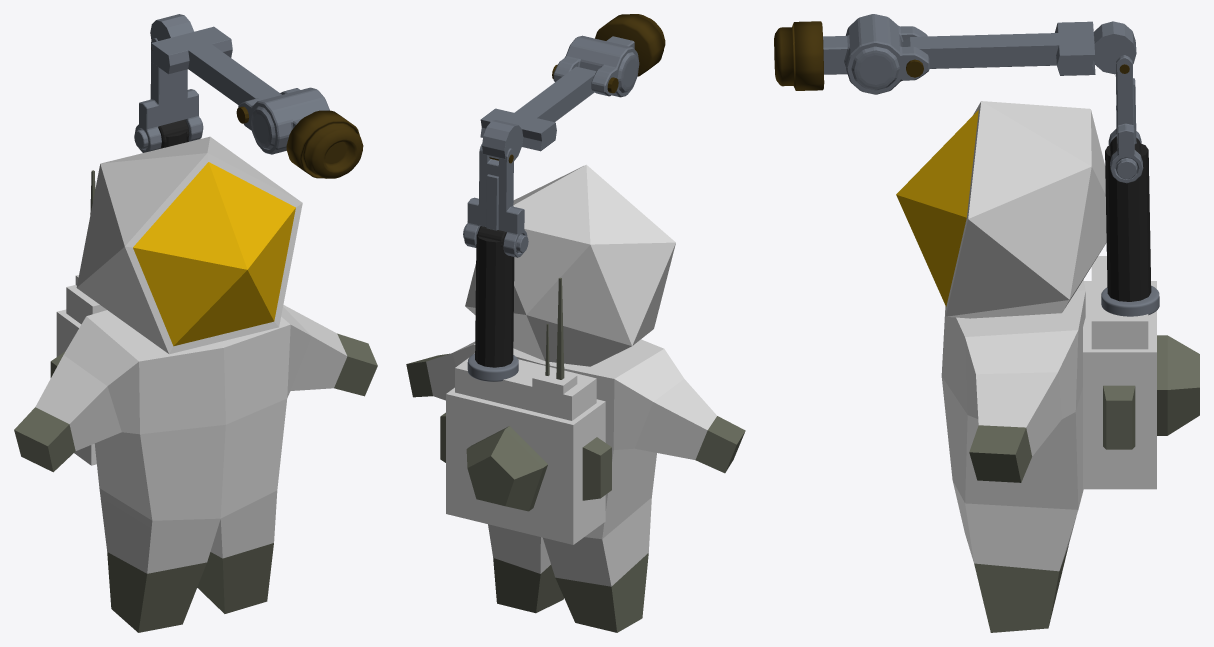
File: Astronauta con brazo.fbx
3 renders of one model, left to right at view 1: azimuth 30°, elevation 25°; view 2: azimuth 150°, elevation 25°; view 3: azimuth 270°, elevation 25°, orthographic. The views are drawn at different scales.
Parts seen in each view (by area): view 1: Player, Cylinder.018, Cylinder.022, Cylinder.019, Cylinder.021; view 2: Player, Cylinder.018, Cylinder.005, Cylinder.019, Cylinder.021, Cylinder.022, Cylinder.020; view 3: Player, Cylinder.018, Cylinder.005, Cylinder.021, Cylinder.022, Cylinder.019, Cylinder.020.
Part boxes in pixels (x1=…): Player: x1=14, y1=136, x2=377, y2=632; Cylinder.018: x1=150, y1=14, x2=281, y2=105; Cylinder.022: x1=286, y1=110, x2=363, y2=178; Cylinder.019: x1=134, y1=38, x2=203, y2=152; Cylinder.021: x1=238, y1=87, x2=329, y2=154; Player: x1=406, y1=164, x2=745, y2=632; Cylinder.018: x1=480, y1=66, x2=596, y2=160; Cylinder.005: x1=475, y1=234, x2=514, y2=367; Cylinder.019: x1=463, y1=144, x2=528, y2=257; Cylinder.021: x1=553, y1=35, x2=639, y2=97; Cylinder.022: x1=595, y1=14, x2=665, y2=76; Cylinder.020: x1=467, y1=354, x2=518, y2=381; Player: x1=896, y1=101, x2=1199, y2=632; Cylinder.018: x1=902, y1=21, x2=1136, y2=75; Cylinder.005: x1=1105, y1=143, x2=1151, y2=301; Cylinder.021: x1=823, y1=14, x2=929, y2=94; Cylinder.022: x1=774, y1=21, x2=824, y2=90; Cylinder.019: x1=1108, y1=55, x2=1143, y2=183; Cylinder.020: x1=1101, y1=286, x2=1159, y2=316.
Bounding box in the file's own units: 363 × 545 × 354.
